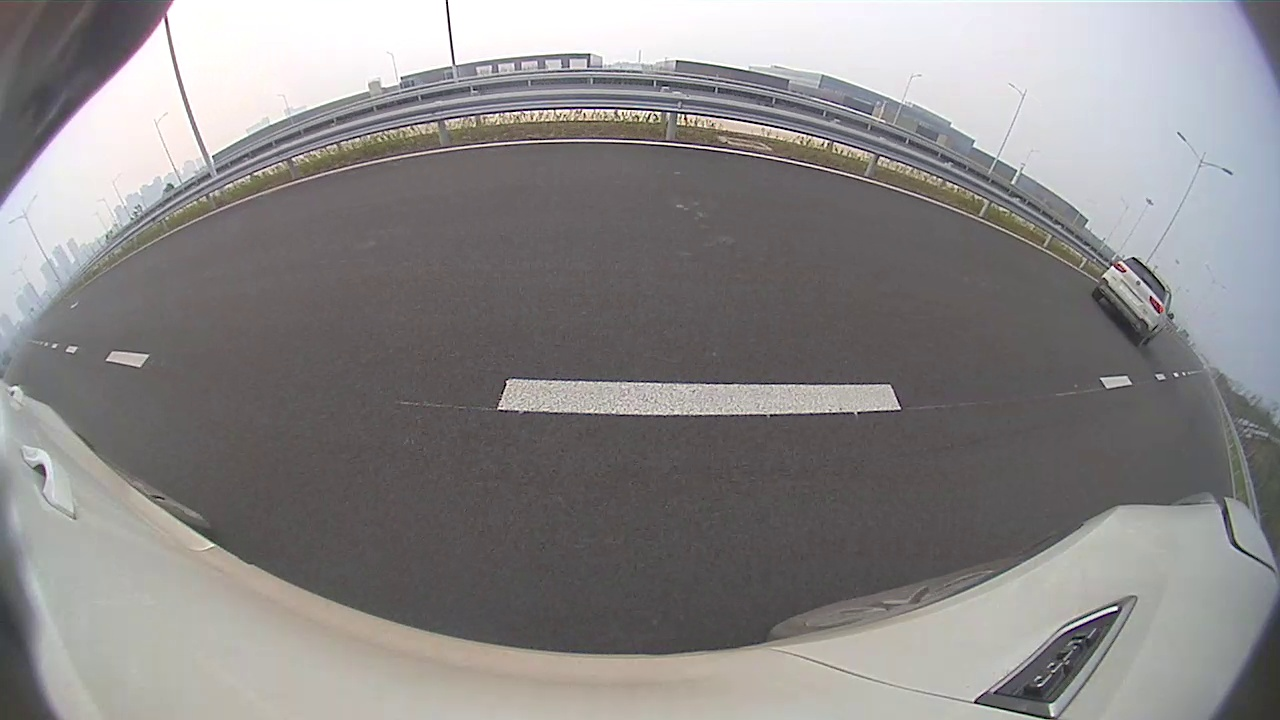car: (1091, 256, 1174, 348)
